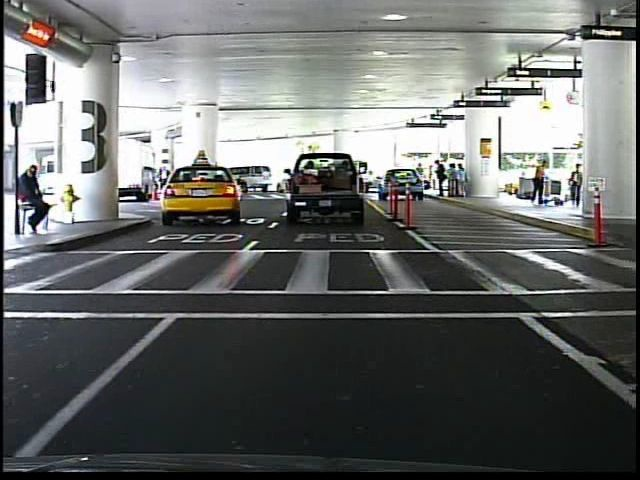person: (19, 161, 56, 233), (528, 155, 551, 209), (568, 161, 584, 209), (415, 161, 428, 192)
